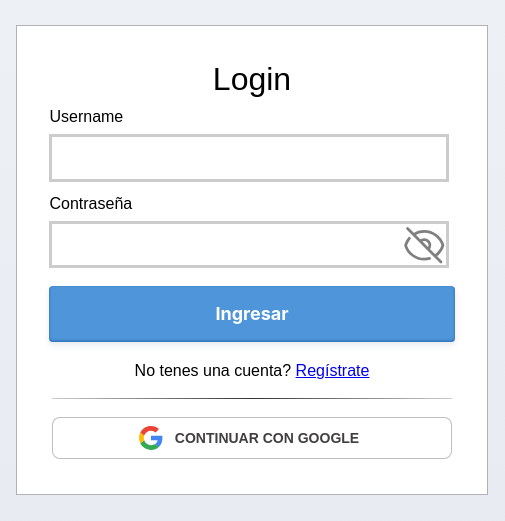
Login Component › muestra advertencia si los campos están vacíos
The image size is (505, 521).
Click the button "Ingresar" at point(252, 314), box [50,286,455,342]
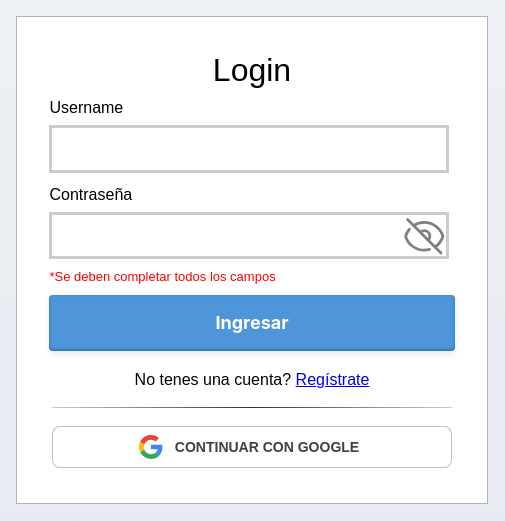
Check: the text "*Se deben completar todos los campos" is shown, box [50,269,276,284]
